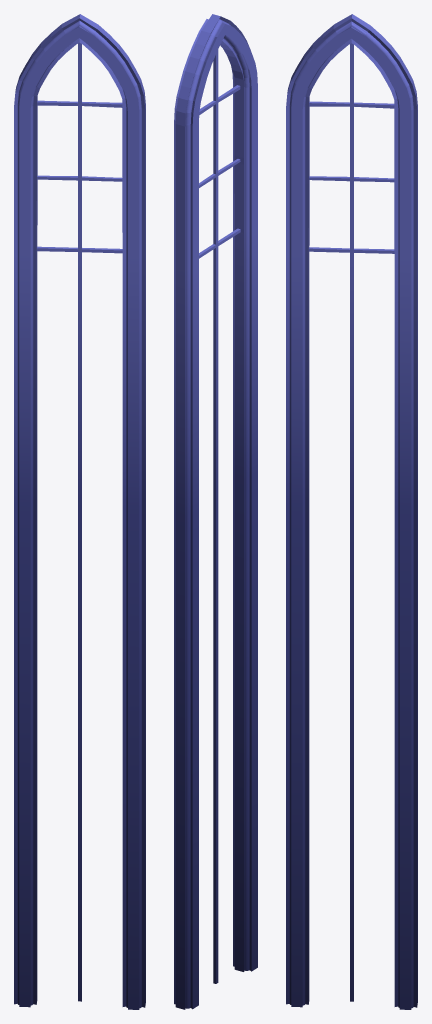
The model's file is SM_GothicArch_001.fbx.
The picture shows the model from 3 angles, left to right: view 1: azimuth 90°, elevation 25°; view 2: azimuth 150°, elevation 25°; view 3: azimuth 270°, elevation 25°; orthographic projection.
Visible parts, largest first — view 1: GothicArch; view 2: GothicArch; view 3: GothicArch.
Part boxes in pixels (x1,y1,x2,y2): GothicArch: [14, 14, 145, 1009]; GothicArch: [174, 14, 257, 1009]; GothicArch: [286, 14, 417, 1009].
Size of the model in its own units: 1789 by 65260 by 7892.
